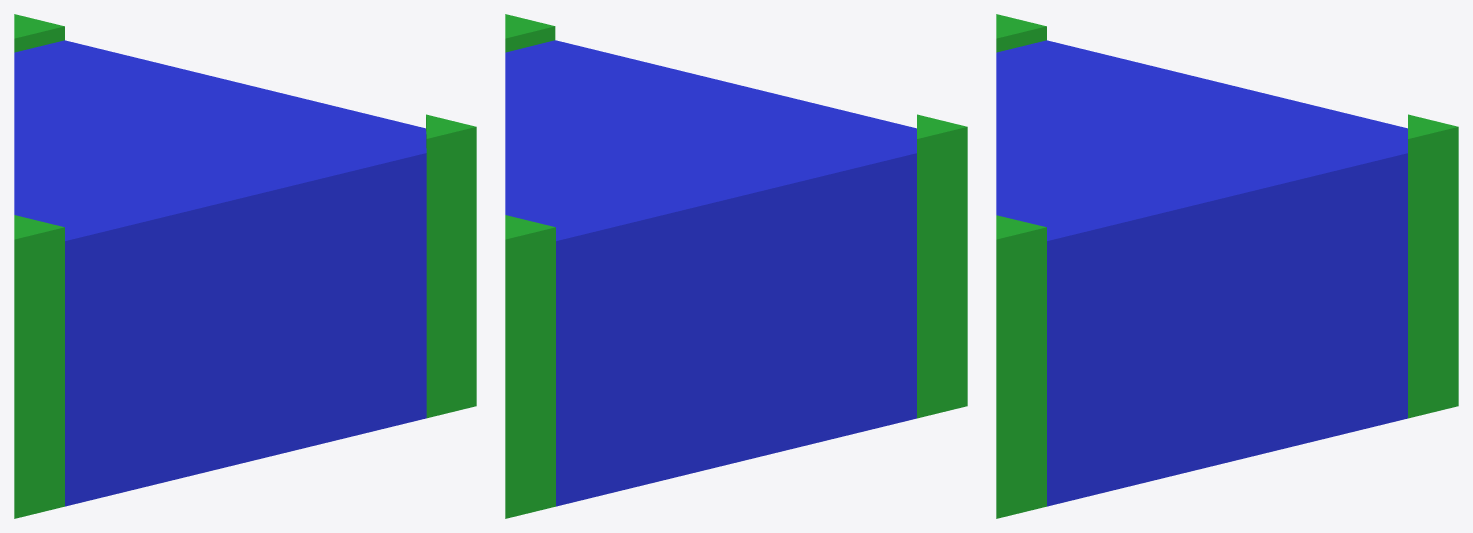
Rendered from river-fork_face.glb.
3 renders of one model, left to right at view 1: azimuth 30°, elevation 25°; view 2: azimuth 150°, elevation 25°; view 3: azimuth 270°, elevation 25°, orthographic.
Visible parts, largest first — view 1: river-fork_face; view 2: river-fork_face; view 3: river-fork_face.
Part boxes in pixels (left/top/right/bottom): river-fork_face: left=14, top=14, right=476, bottom=518; river-fork_face: left=505, top=14, right=967, bottom=518; river-fork_face: left=996, top=14, right=1458, bottom=518.
Size of the model in its own units: 0.866 by 0.5 by 0.75.
